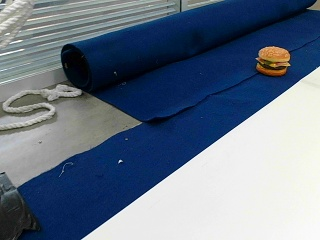burger: (254, 44, 290, 75)
